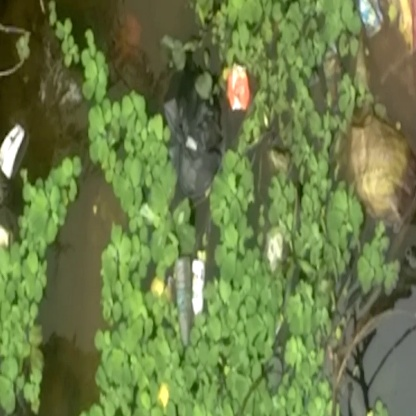plastic-bag: (159, 68, 229, 198)
